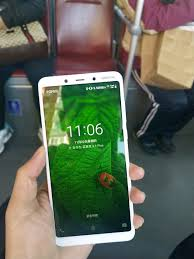nokia: (33, 71, 132, 249)
